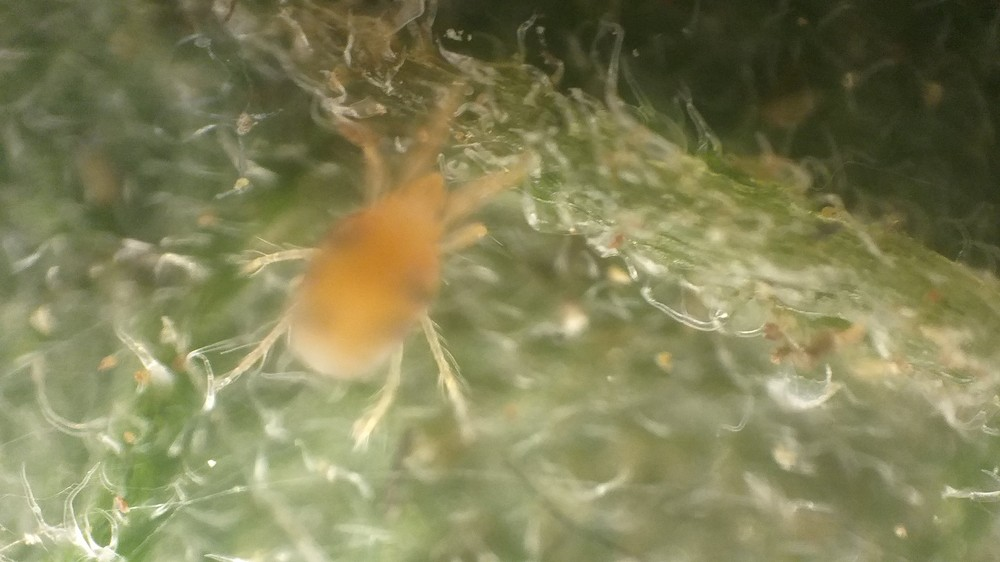Aracnido Rojo: (205, 87, 542, 452)
